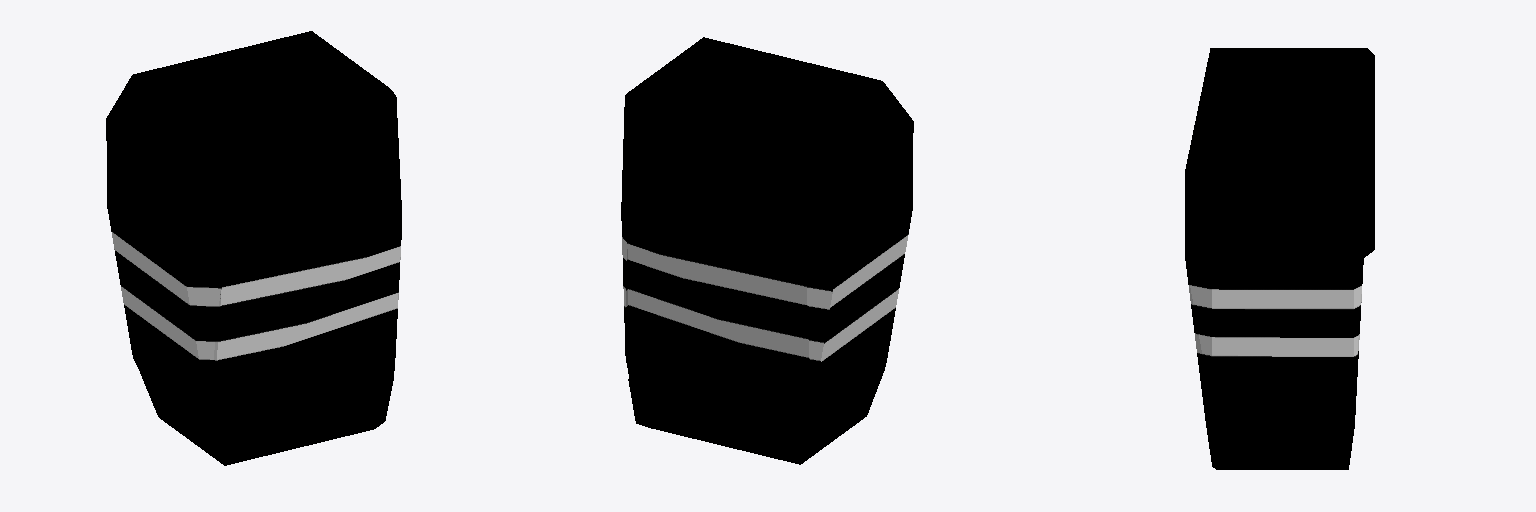
3 views of the same model, side by side, from view 1: azimuth 30°, elevation 25°; view 2: azimuth 150°, elevation 25°; view 3: azimuth 270°, elevation 25° (orthographic).
Visible parts, largest first — view 1: pCube1 pCube2; view 2: pCube1 pCube2; view 3: pCube1 pCube2.
Part boxes in pixels (x1,y1,x2,y2): pCube1 pCube2: (106,31,401,465); pCube1 pCube2: (621,37,913,464); pCube1 pCube2: (1185,48,1374,469).
Size of the model in its own units: 0.7385 by 1.09 by 0.5521.
Materials: 1 (1 with a texture image).